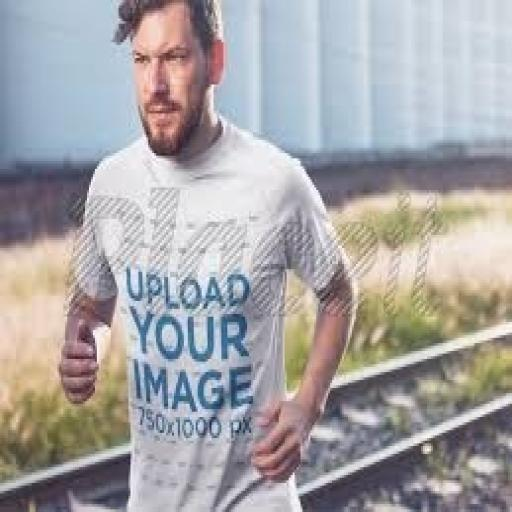running: (57, 0, 359, 509)
